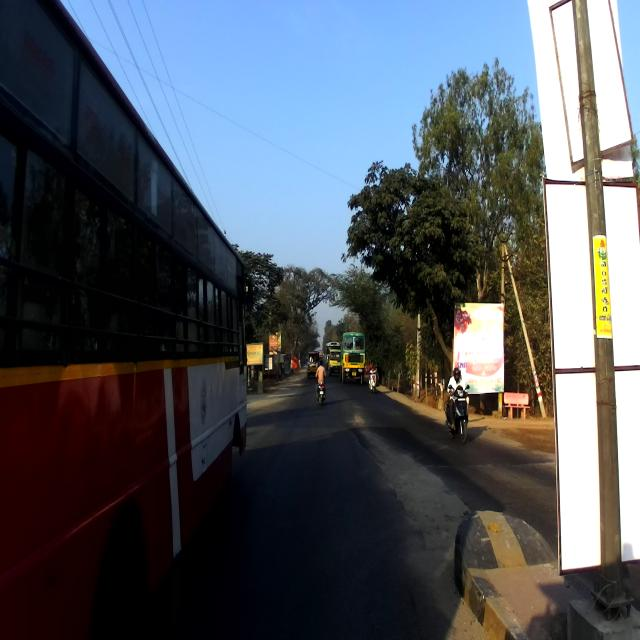bus ahead at: (2, 0, 254, 640)
